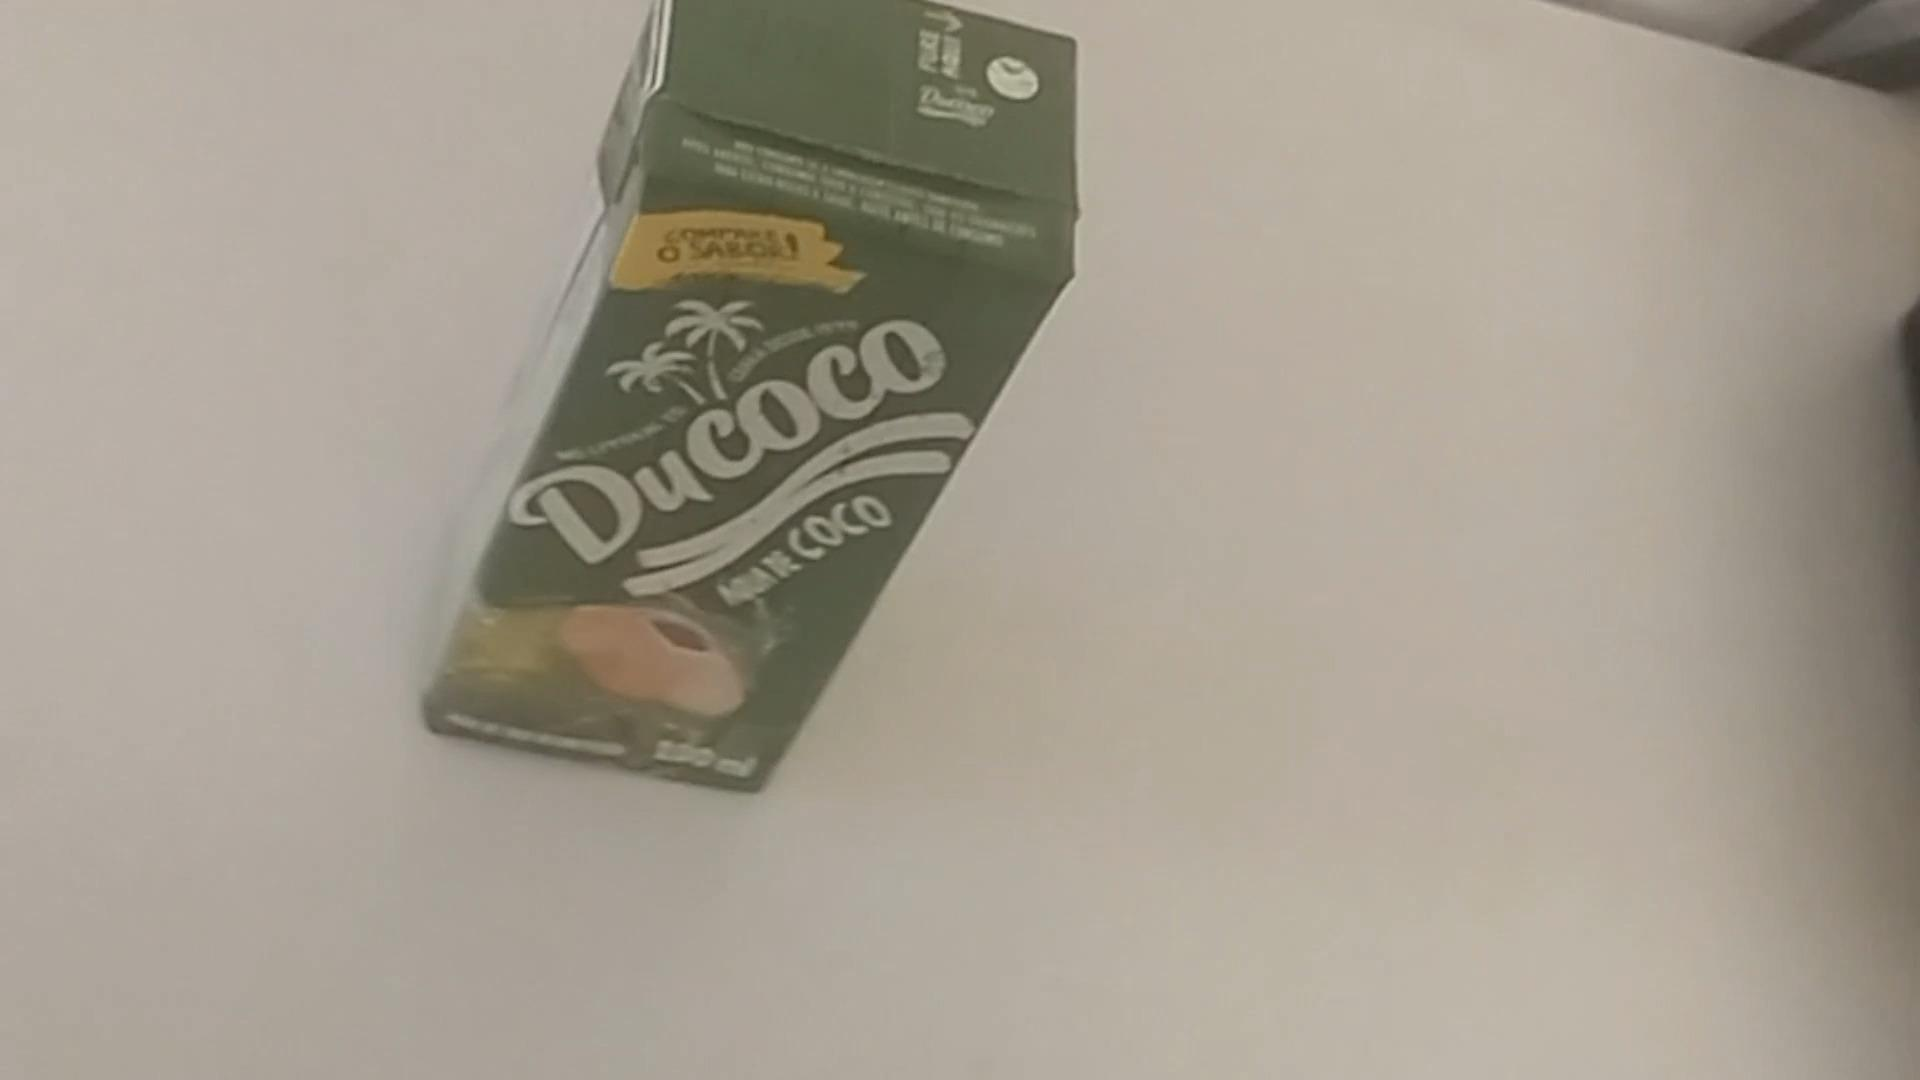coco: (418, 0, 1077, 800)
